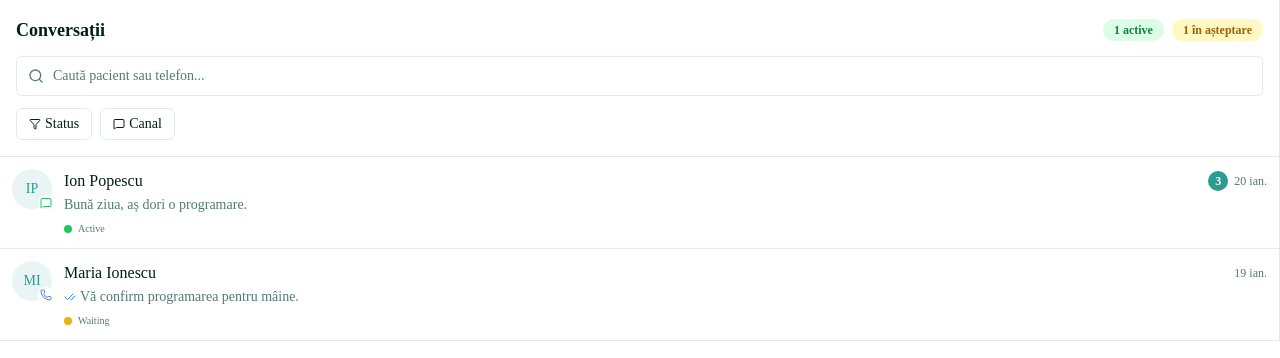
it: ConversationList › should filter conversations by phone
The image size is (1280, 358).
Type "+40123" into the field with placeholder "Caută pacient sau telefon...". click: (640, 76)
box: [16, 56, 1263, 96]
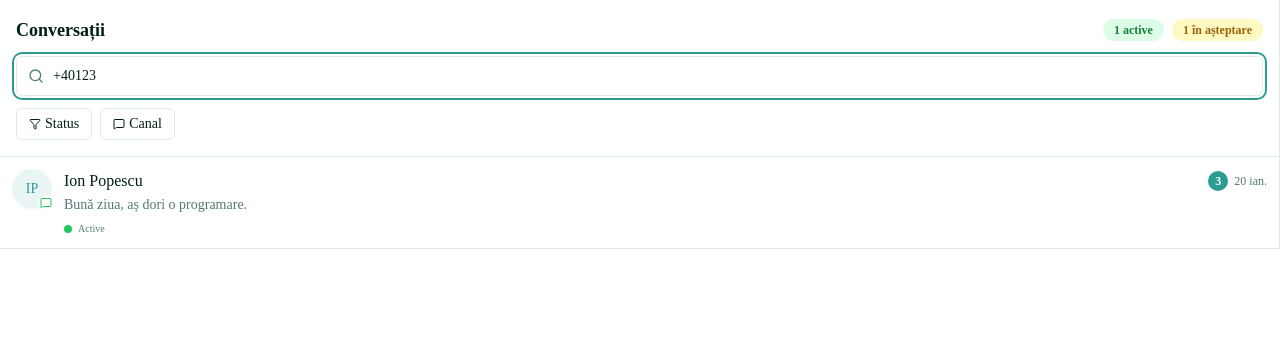
Check: the text "Ion Popescu" is shown, box [64, 169, 143, 193]
Check: the text "Maria Ionescu" is gone
